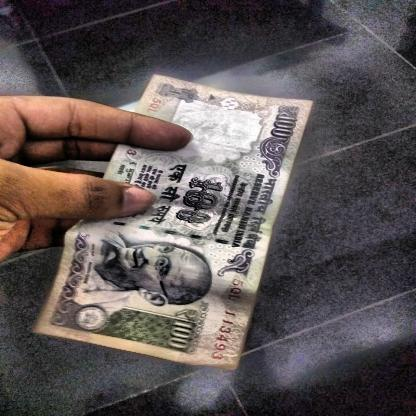Rs100: (170, 172, 230, 230), (159, 304, 210, 356), (267, 102, 305, 142)
